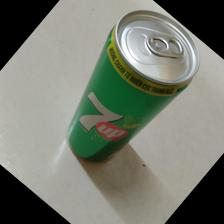7up: (65, 9, 201, 166)
